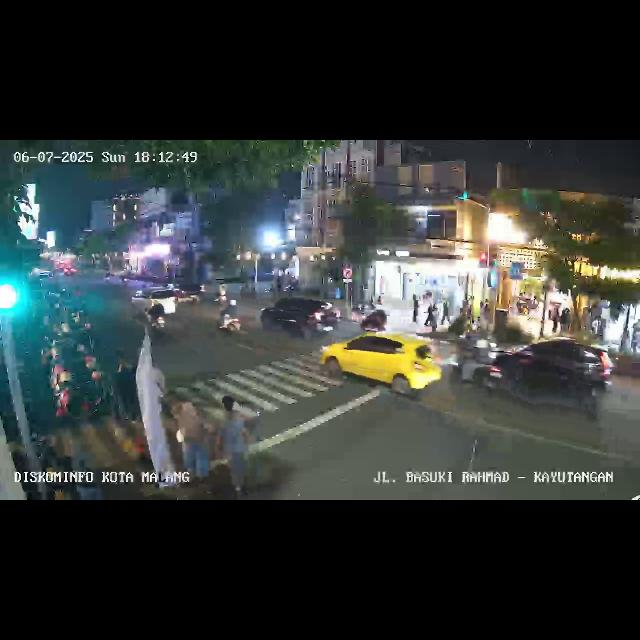car: (478, 338, 616, 407), (323, 327, 442, 401), (260, 294, 340, 342), (128, 284, 184, 318)
motorcycle: (444, 333, 508, 395), (218, 298, 242, 336), (358, 305, 389, 331), (147, 300, 167, 334)
person: (174, 396, 212, 492), (216, 400, 252, 498), (630, 317, 640, 353), (410, 293, 420, 323), (560, 304, 570, 334), (424, 302, 434, 330), (441, 300, 452, 324), (550, 304, 558, 334), (430, 304, 438, 332)
